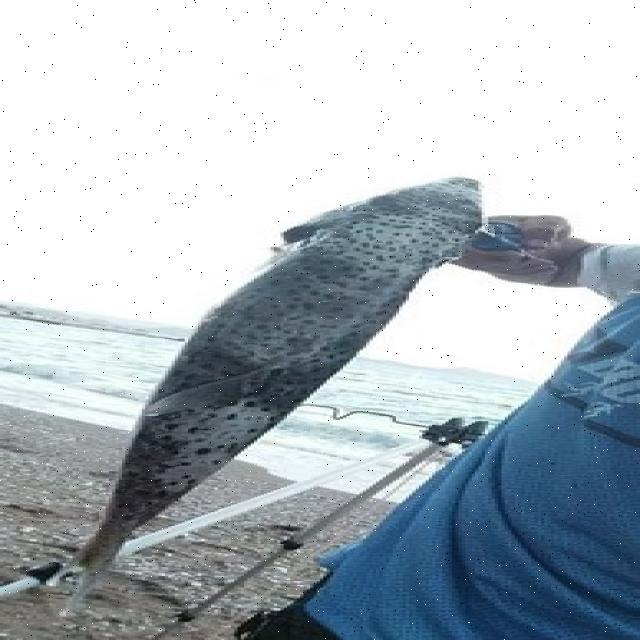Balik: (66, 178, 481, 610)
